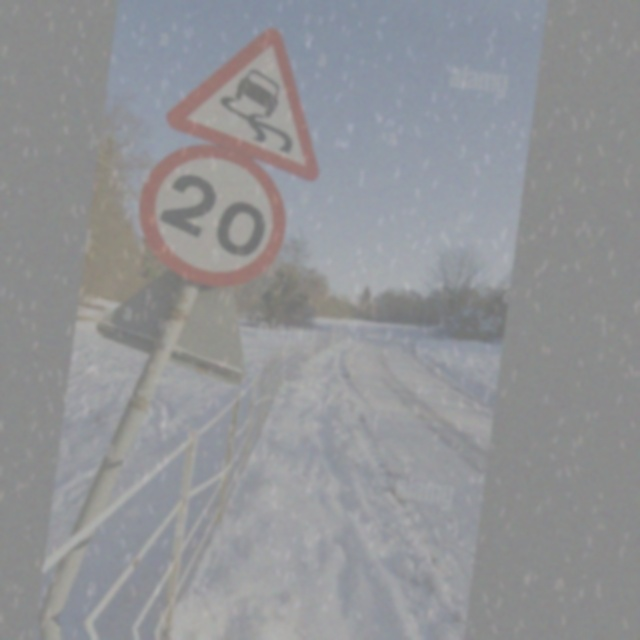Slippery_Road: (163, 16, 343, 174)
